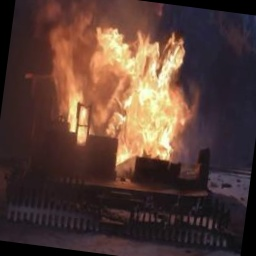fire: (35, 0, 220, 180)
